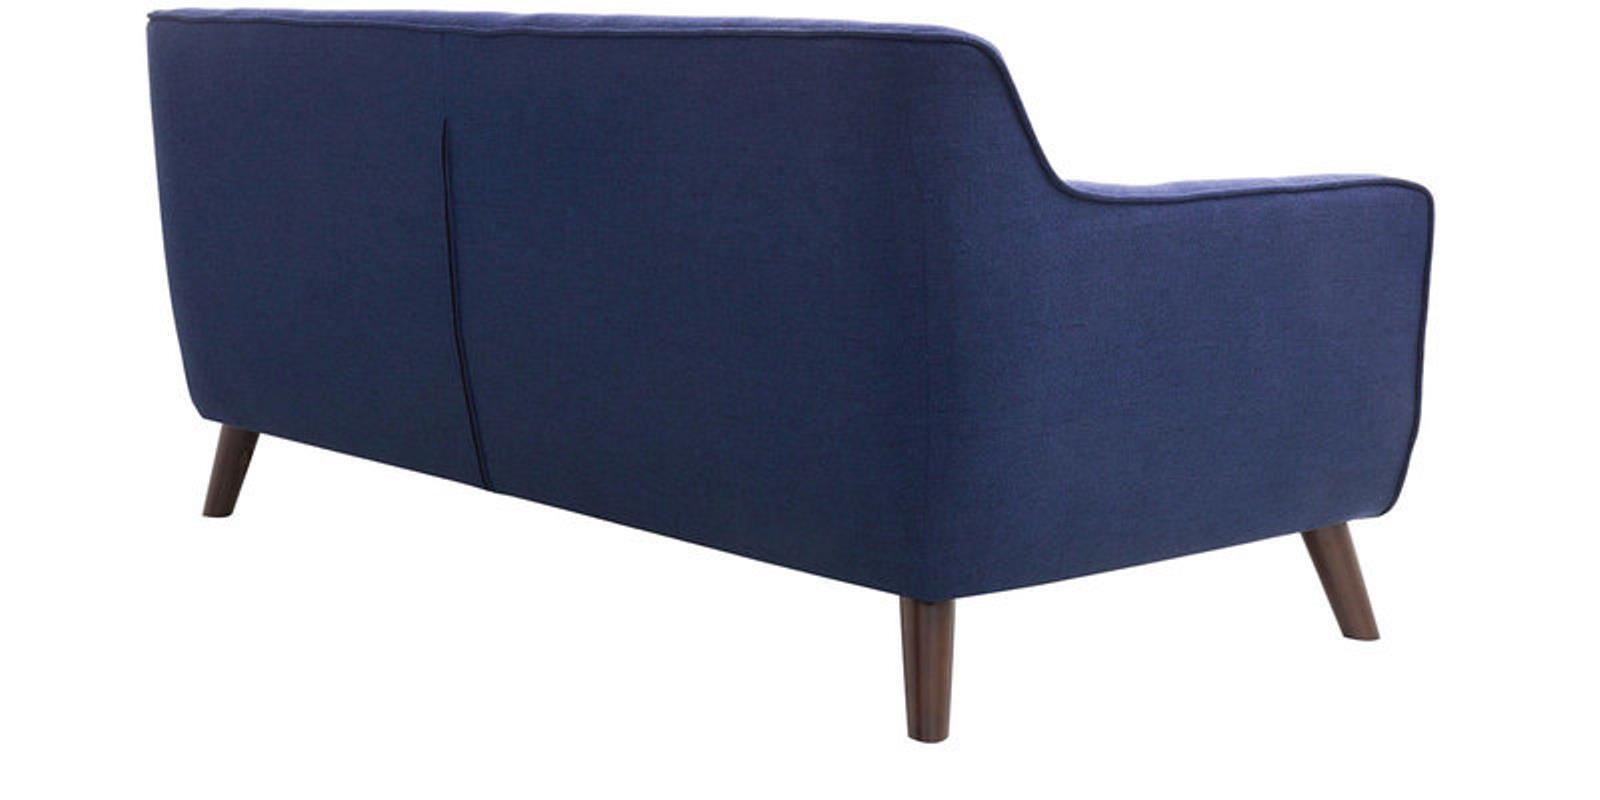Bogota Three Seater Sofa in Blue Colour by CasaCraft: (119, 7, 1449, 670)
